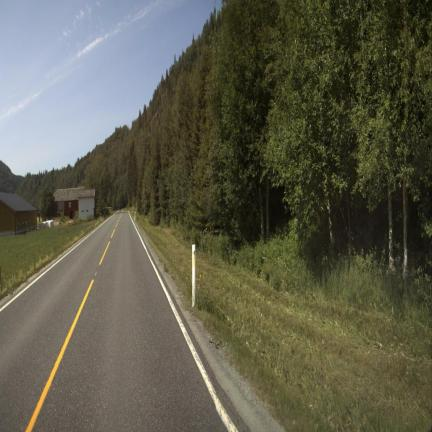Road: (0, 213, 230, 430)
